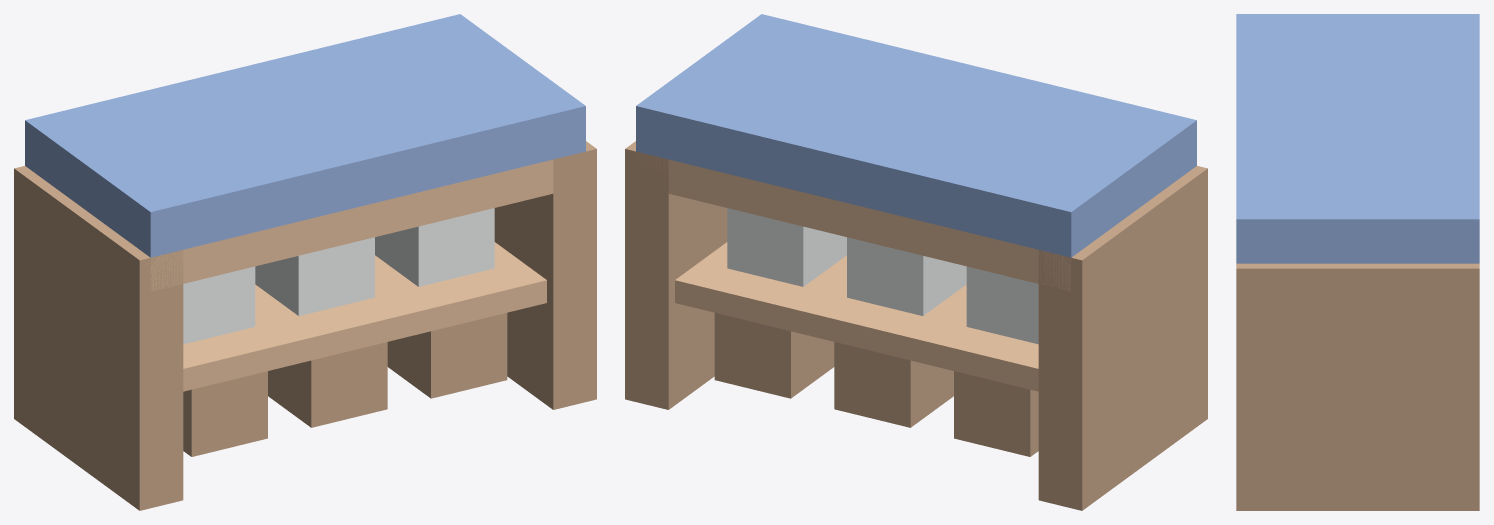
Rendered from benchEntryStorage.glb.
3 renders of one model, left to right at view 1: azimuth 30°, elevation 25°; view 2: azimuth 150°, elevation 25°; view 3: azimuth 270°, elevation 25°, orthographic. The views are drawn at different scales.
Parts seen in each view (by area): view 1: benchEntryStorage; view 2: benchEntryStorage; view 3: benchEntryStorage.
Boxes of the visible parts, left/top/right/bottom form: benchEntryStorage: left=14, top=14, right=596, bottom=510; benchEntryStorage: left=625, top=14, right=1207, bottom=510; benchEntryStorage: left=1236, top=14, right=1479, bottom=510.
Size of the model in its own units: 0.42 by 0.26 by 0.2.
